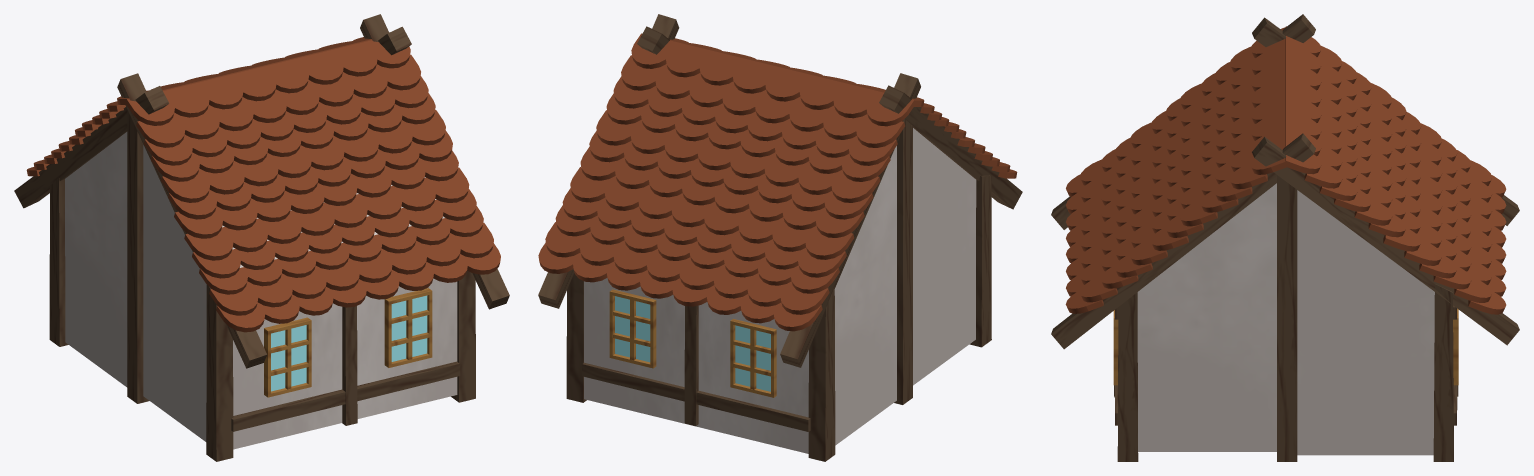
The model's file is House4.fbx.
3 renders of one model, left to right at view 1: azimuth 30°, elevation 25°; view 2: azimuth 150°, elevation 25°; view 3: azimuth 270°, elevation 25°, orthographic.
Visible parts, largest first — view 1: polySurface887; view 2: polySurface887; view 3: polySurface887.
Boxes of the visible parts, x1,y1,x2,y2 form: polySurface887: [14, 14, 509, 461]; polySurface887: [538, 14, 1022, 461]; polySurface887: [1051, 14, 1519, 461].
Bounding box in the file's own units: 1.28 × 1.41 × 1.86.
